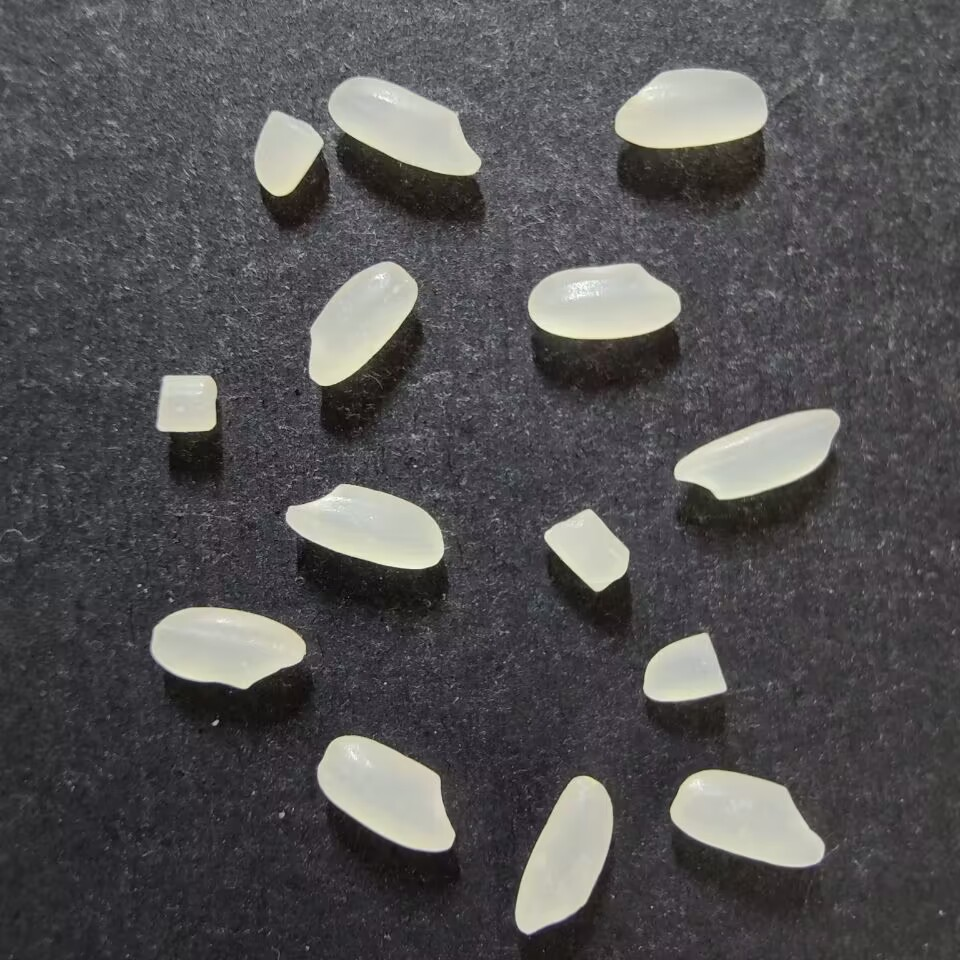broken: (543, 508, 630, 593), (253, 110, 323, 197), (641, 632, 727, 702), (155, 372, 218, 434)
rice: (513, 774, 615, 935), (316, 735, 455, 852), (327, 76, 481, 177), (673, 407, 840, 500), (669, 769, 825, 868), (306, 260, 418, 387), (284, 483, 445, 570), (149, 606, 306, 690), (613, 67, 768, 150), (527, 262, 681, 339)
